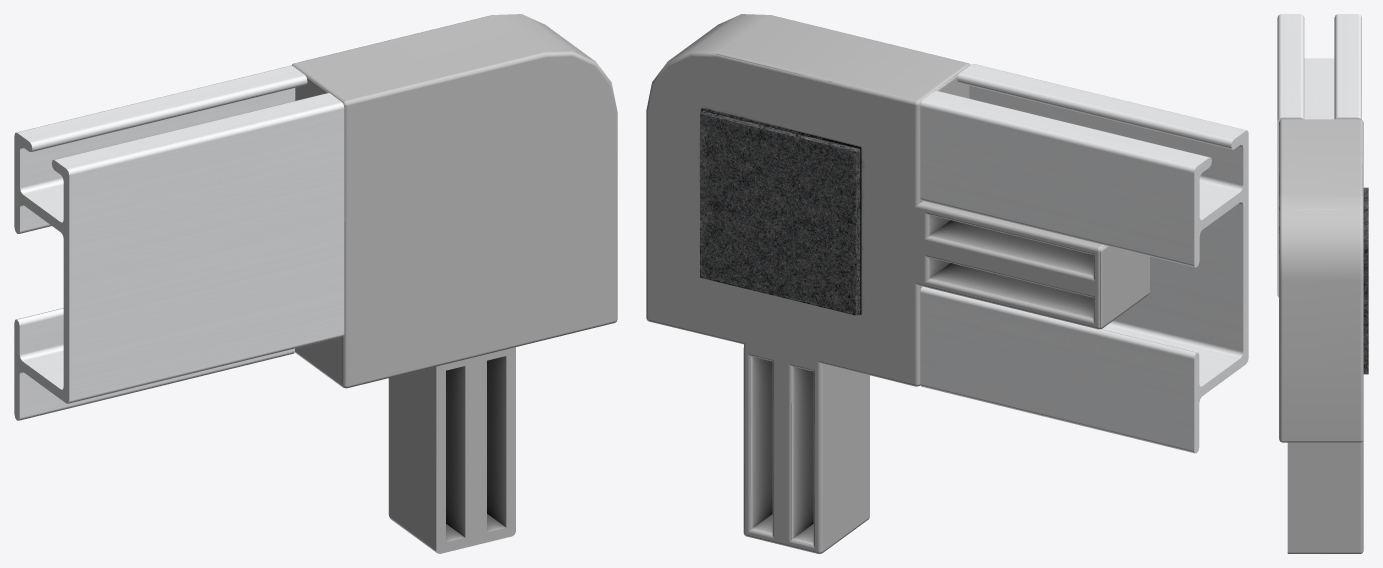
File: hanger.glb
3 views of the same model, side by side, from view 1: azimuth 30°, elevation 25°; view 2: azimuth 150°, elevation 25°; view 3: azimuth 270°, elevation 25° (orthographic). The views are drawn at different scales.
Visible parts, largest first — view 1: corner, main; view 2: corner, main; view 3: corner, main.
Part boxes in pixels (left/top/right/bottom): corner: left=291, top=14, right=617, bottom=553; main: left=14, top=65, right=344, bottom=420; corner: left=646, top=14, right=1149, bottom=553; main: left=920, top=64, right=1248, bottom=453; corner: left=1279, top=119, right=1368, bottom=553; main: left=1277, top=14, right=1361, bottom=297.
Bounding box in the file's own units: 0.0571 × 0.0475 × 0.0106.
Materials: 2 (2 with a texture image).
